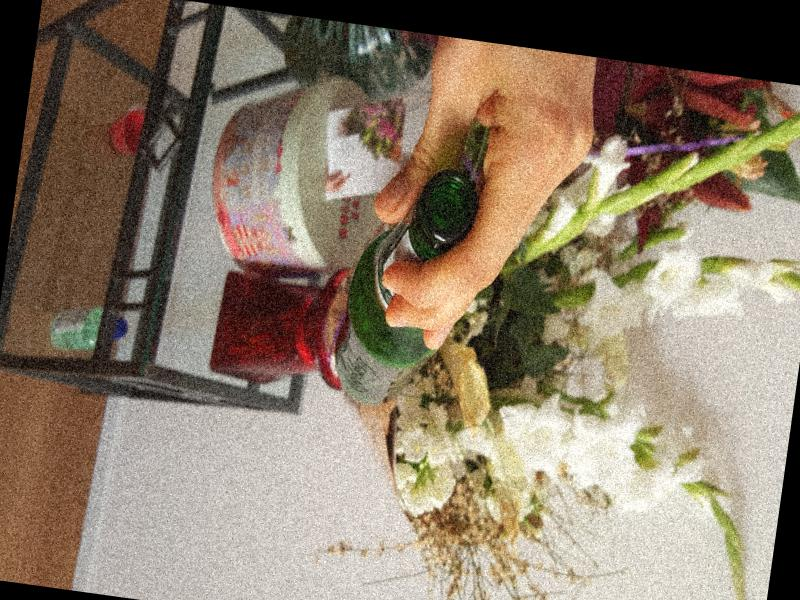Beer: (326, 158, 480, 416)
